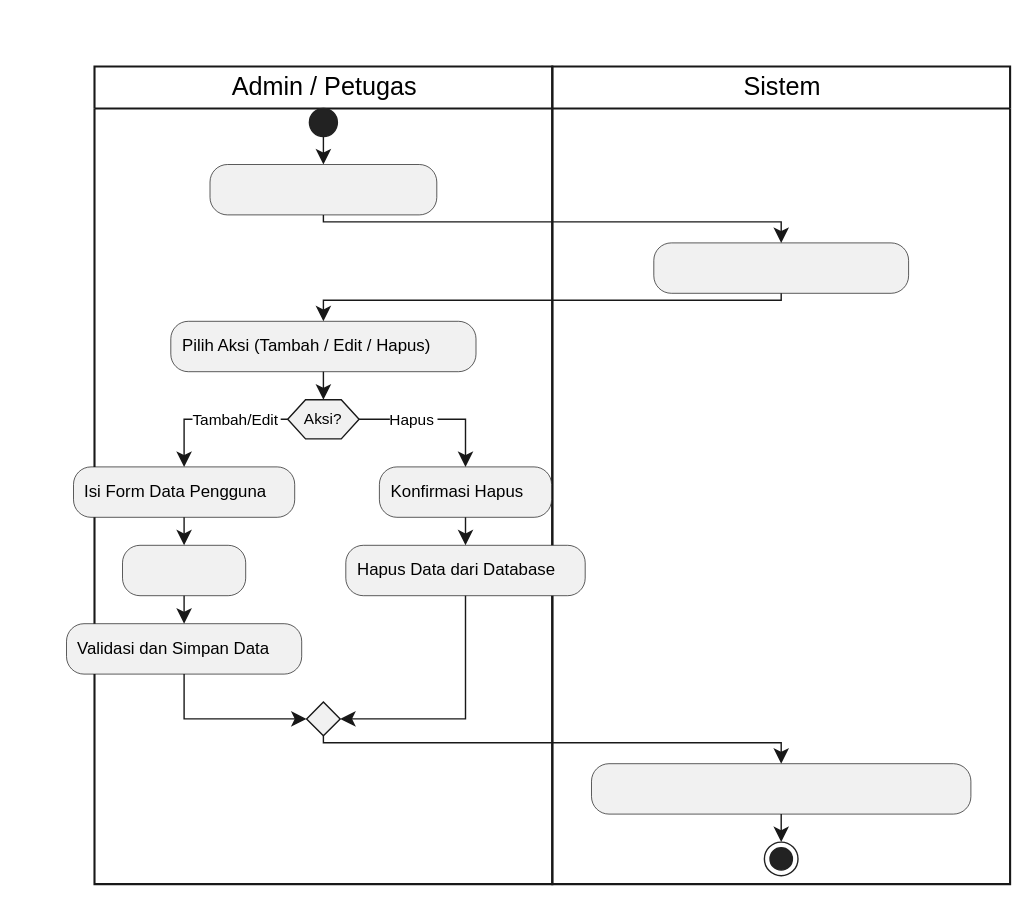
This 1035x909 diagram has some shape labels left out. Here are the shapes that lost their labels. From the top down, the centre of each, then its label:
point 323,189: Klik Menu "Kelola Users"
point 780,267: Tampilkan Daftar Pengguna
point 183,569: Klik Simpan
point 781,788: Tampilkan Pesan Sukses dan Refresh Tabel
